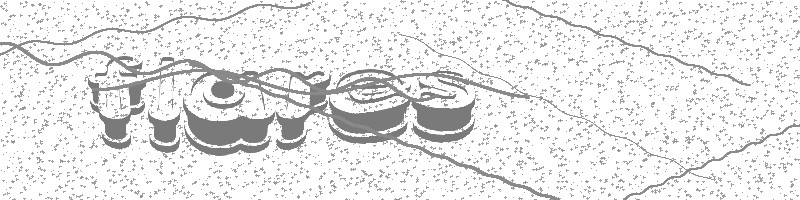a: (183, 68, 273, 157)
e: (327, 66, 409, 146)
f: (86, 53, 146, 151)
i: (146, 54, 183, 154)
r: (277, 68, 329, 152)
s: (411, 66, 476, 145)
